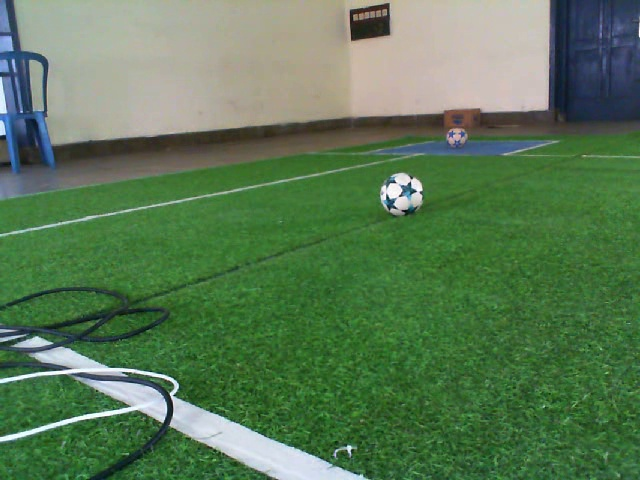ball: (378, 170, 425, 218), (444, 126, 470, 149)
